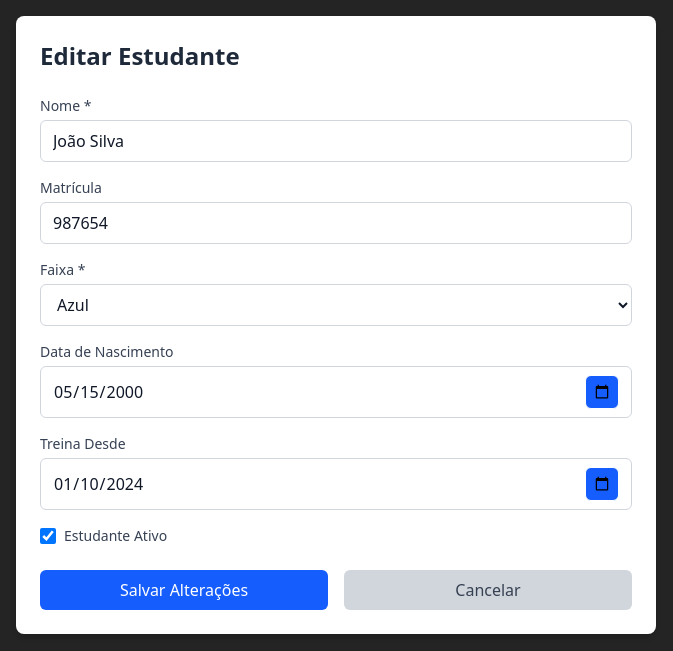
Scenario: StudentEdit › should show loading state while saving
Expected: the field showing "João Silva" is shown, [40,120,632,162]
Click the button "Salvar Alterações" at (184, 590), box [40,570,328,610]
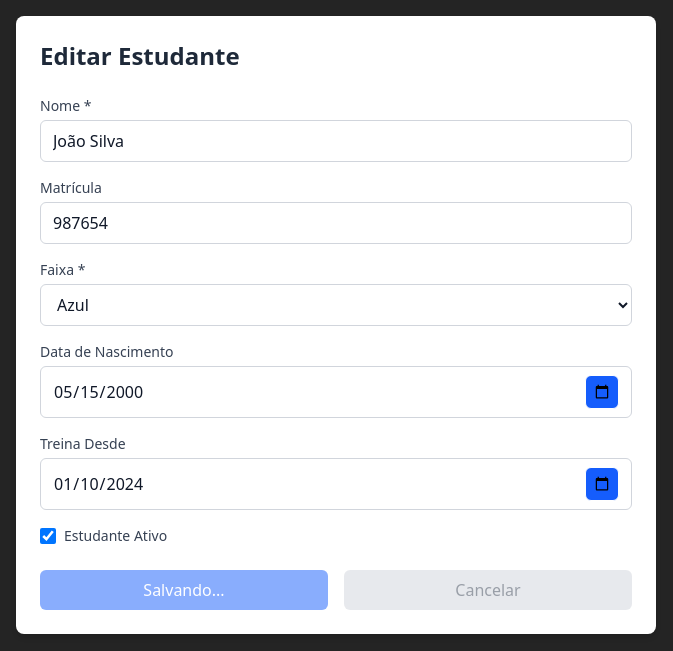
Now the button "Salvando..." is disabled, box [40,570,328,610]
